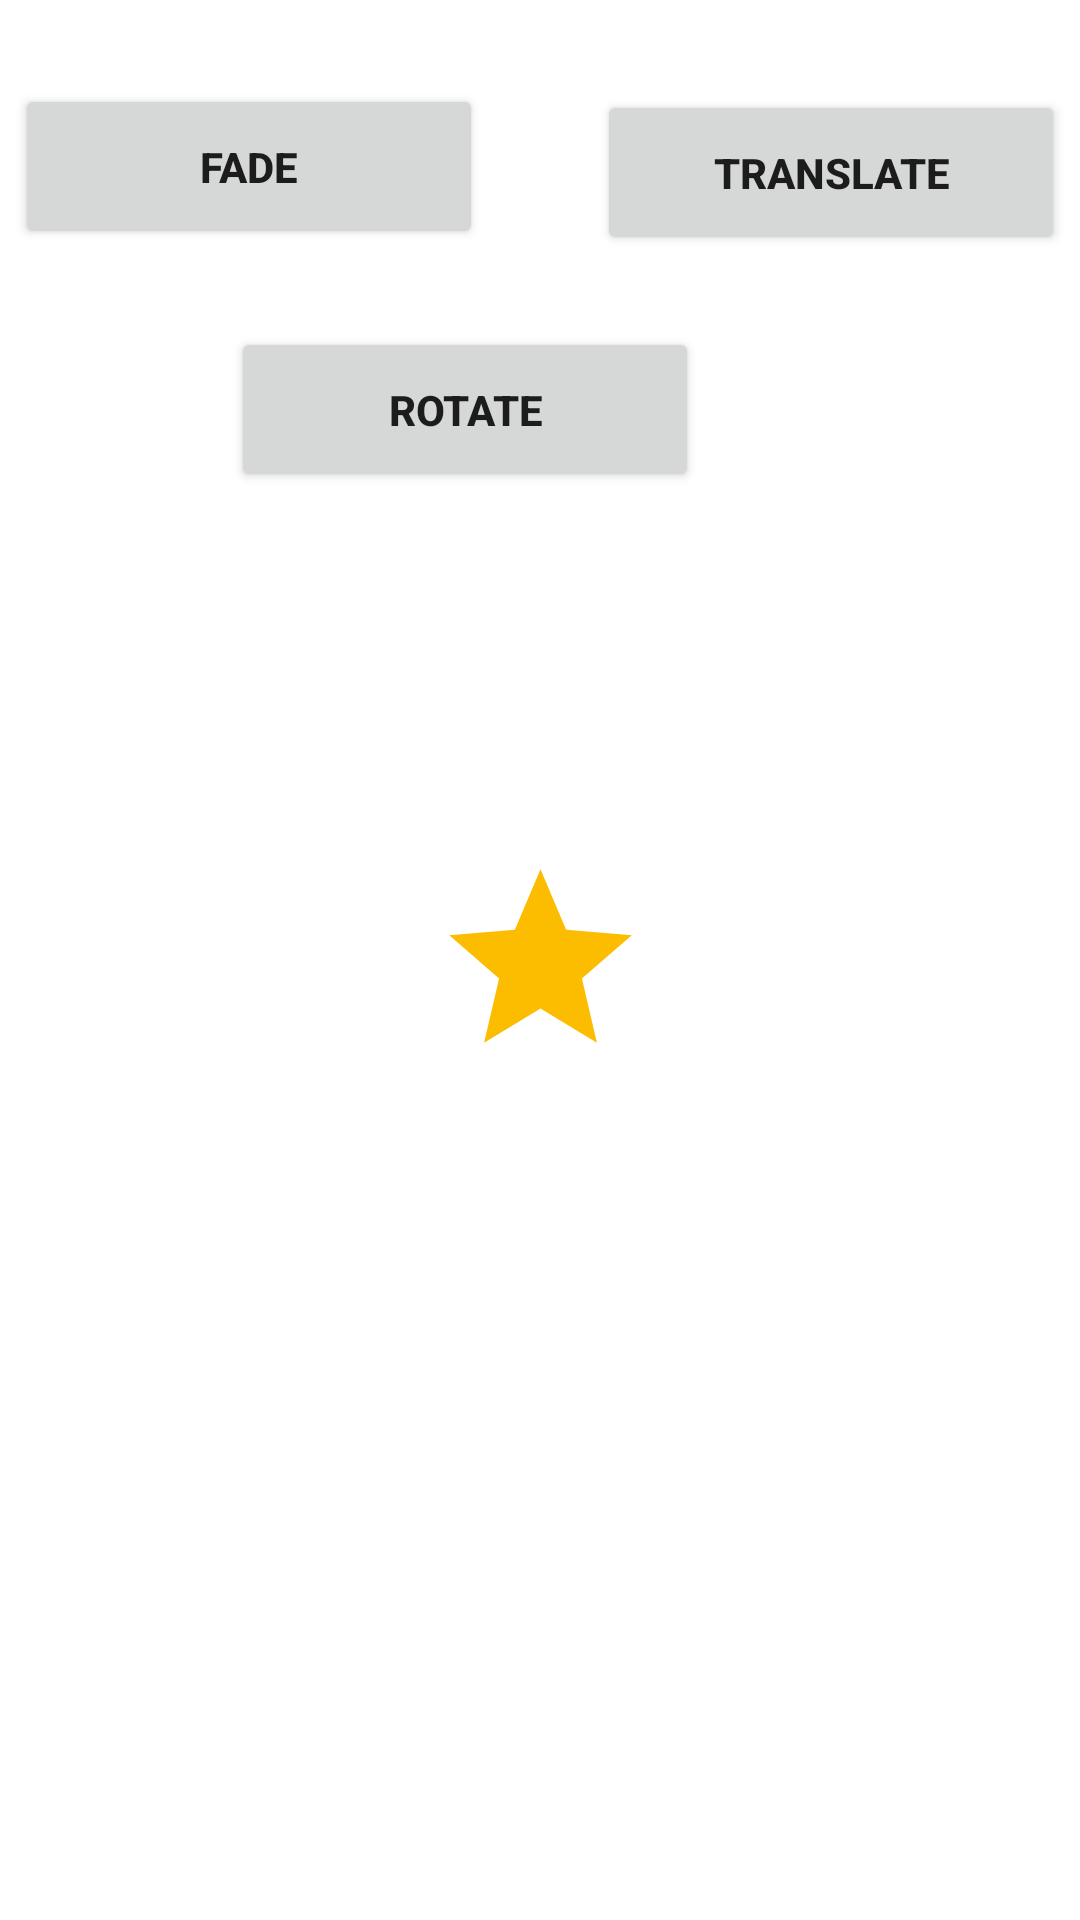

Named icons in this screenshot (1080×1920) and their centers, (x,y):
star: (540,956)
